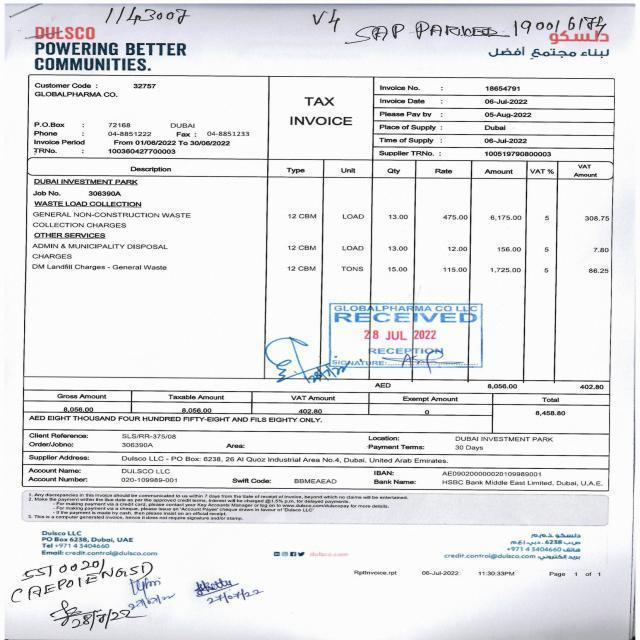ROI: (24, 162, 619, 286), (256, 292, 611, 391), (23, 433, 604, 488), (22, 393, 591, 429), (7, 561, 263, 635), (303, 5, 617, 62), (373, 77, 557, 158), (20, 492, 409, 524), (30, 115, 257, 157), (28, 24, 195, 74), (438, 528, 586, 562), (349, 567, 605, 582), (39, 527, 161, 558), (33, 78, 160, 102), (285, 92, 356, 134), (100, 4, 190, 23), (262, 547, 355, 560)
